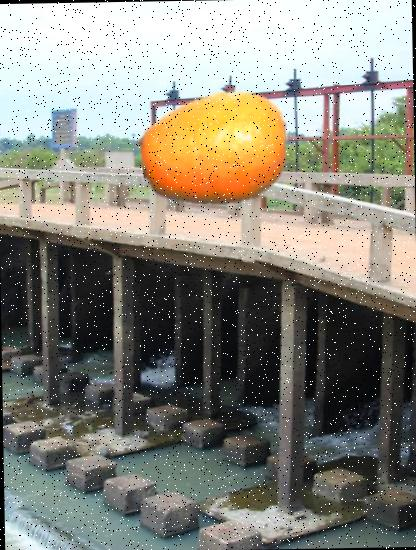Kumquats: (140, 74, 290, 224)
